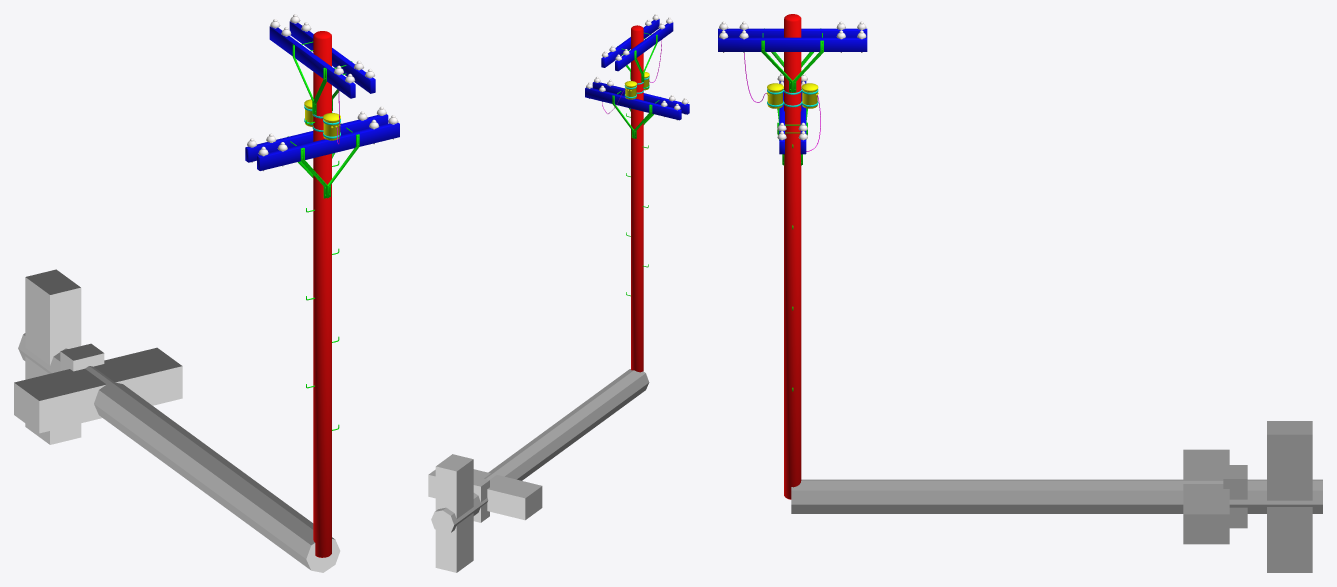
Rendered from SM_Electric_Pole_03.fbx.
3 renders of one model, left to right at view 1: azimuth 30°, elevation 25°; view 2: azimuth 150°, elevation 25°; view 3: azimuth 270°, elevation 25°, orthographic. The views are drawn at different scales.
Visible parts, largest first — view 1: SM_Electric_Pole_03_ConvexHulls, SM_Electric_Pole_03_LOD0; view 2: SM_Electric_Pole_03_ConvexHulls, SM_Electric_Pole_03_LOD0; view 3: SM_Electric_Pole_03_ConvexHulls, SM_Electric_Pole_03_LOD0.
Boxes of the visible parts, x1,y1,x2,y2 form: SM_Electric_Pole_03_ConvexHulls: (14, 269, 340, 572); SM_Electric_Pole_03_LOD0: (245, 14, 399, 557); SM_Electric_Pole_03_ConvexHulls: (428, 369, 649, 572); SM_Electric_Pole_03_LOD0: (585, 14, 689, 372); SM_Electric_Pole_03_ConvexHulls: (791, 421, 1322, 572); SM_Electric_Pole_03_LOD0: (718, 14, 867, 499).
Bounding box in the file's own units: 230 × 914 × 915.
